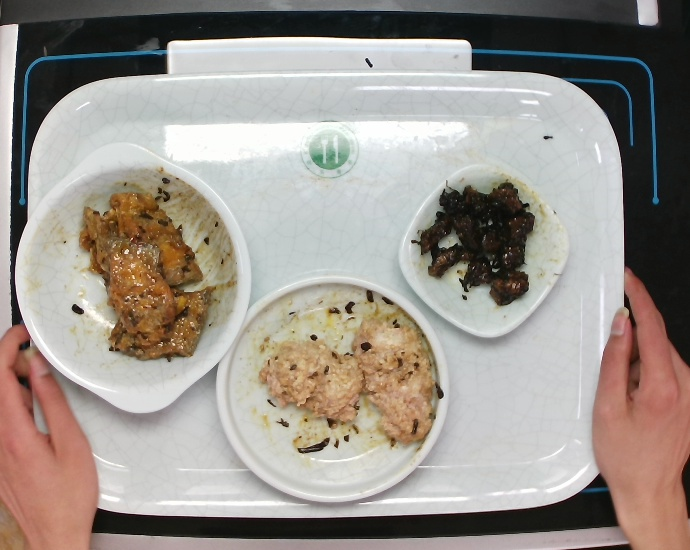JYsf-Shuang_Er_Wan: (8, 135, 257, 418)
JYsf-Si_Fang_Die: (394, 158, 575, 343)
JYsf-Xiao_Yuan_Pan: (212, 269, 455, 510)
